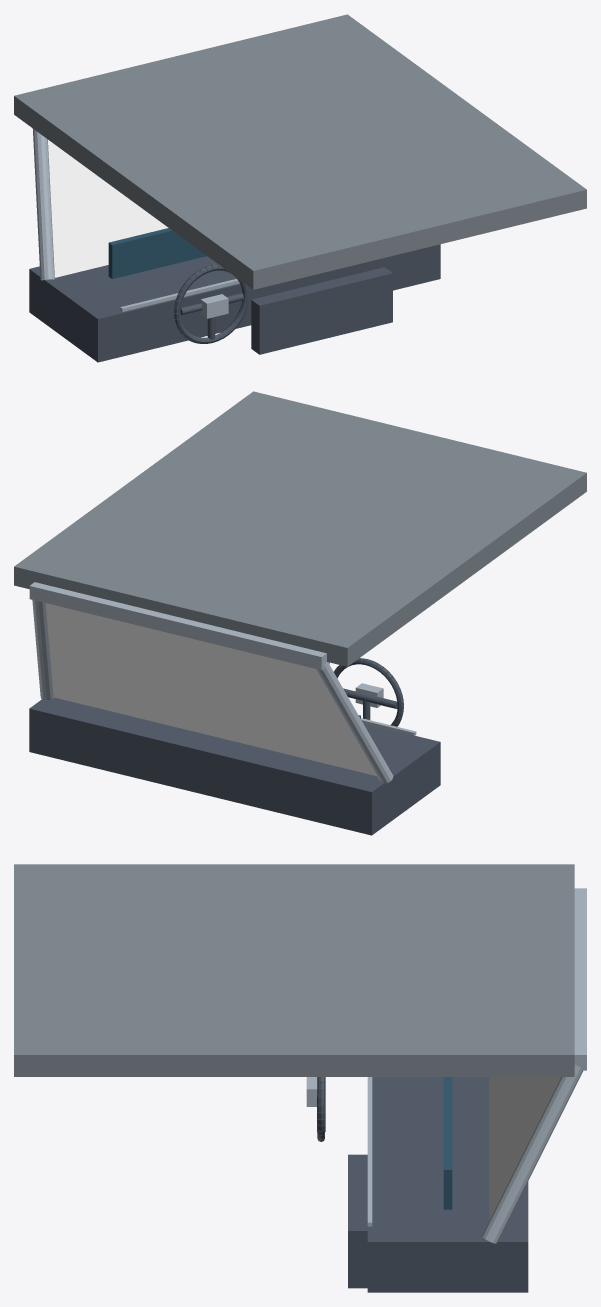
File: cabin-kit.glb
3 views of the same model, one above another, from view 1: azimuth 30°, elevation 25°; view 2: azimuth 150°, elevation 25°; view 3: azimuth 270°, elevation 25° (orthographic). The views are drawn at different scales.
Visible parts, largest first — view 1: cabin, windshield, wheel; view 2: cabin, windshield, wheel; view 3: cabin, windshield, wheel.
Boxes of the visible parts, left/top/right/bottom form: cabin: left=14, top=14, right=586, bottom=362; windshield: left=48, top=140, right=168, bottom=277; wheel: left=174, top=264, right=248, bottom=343; cabin: left=14, top=391, right=586, bottom=835; windshield: left=46, top=603, right=376, bottom=775; wheel: left=334, top=658, right=403, bottom=726; cabin: left=14, top=864, right=586, bottom=1292; windshield: left=489, top=1077, right=560, bottom=1220; wheel: left=306, top=1077, right=325, bottom=1141.
Size of the model in its own units: 1.95 by 1.19 by 2.35.
